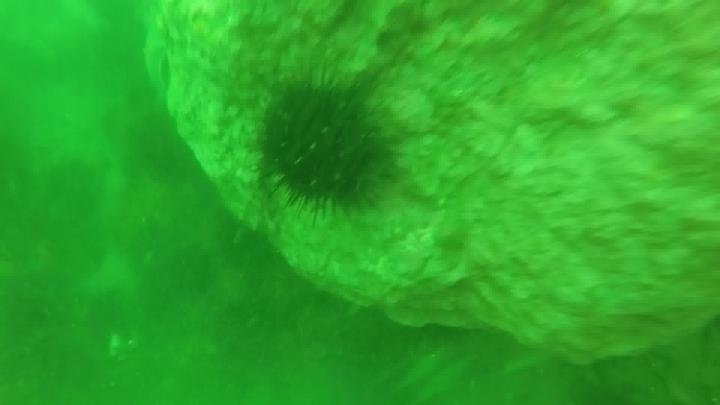echinus: (253, 69, 401, 224), (42, 156, 107, 226)
